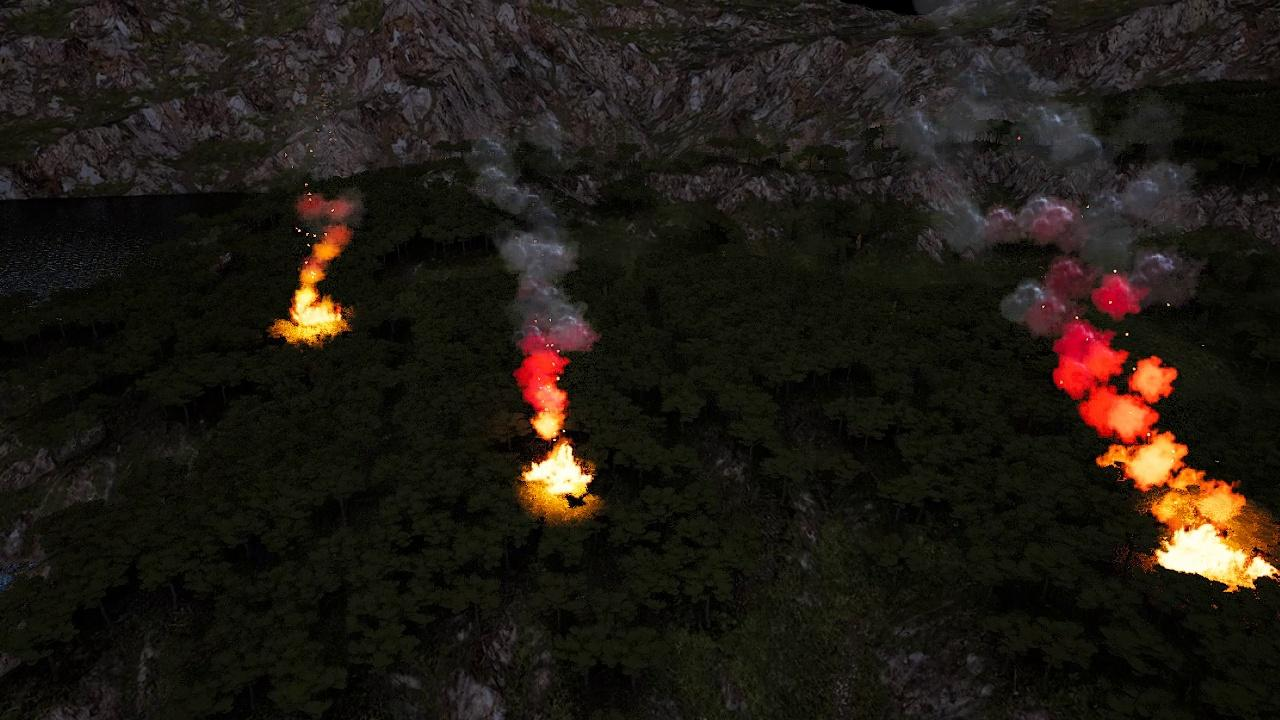fire: (1158, 521, 1280, 588), (523, 440, 595, 506), (277, 281, 344, 342)
smoke: (896, 86, 1252, 518), (470, 116, 600, 442), (290, 176, 369, 278)
